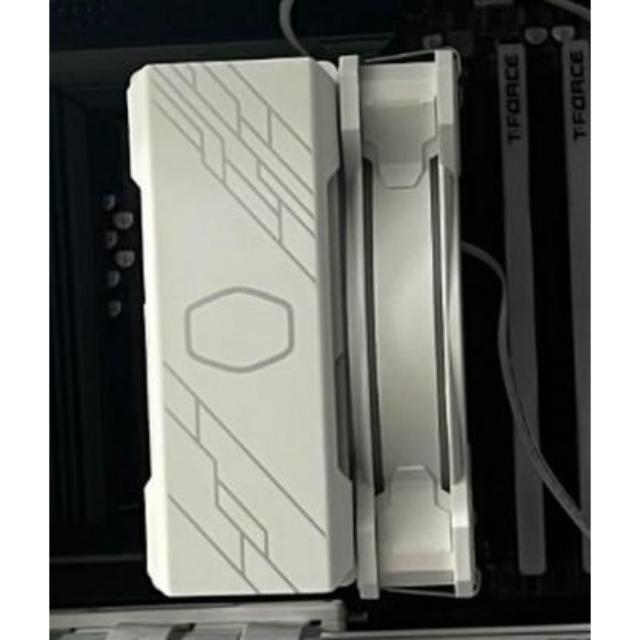CPU_Fan: (122, 52, 482, 610)
